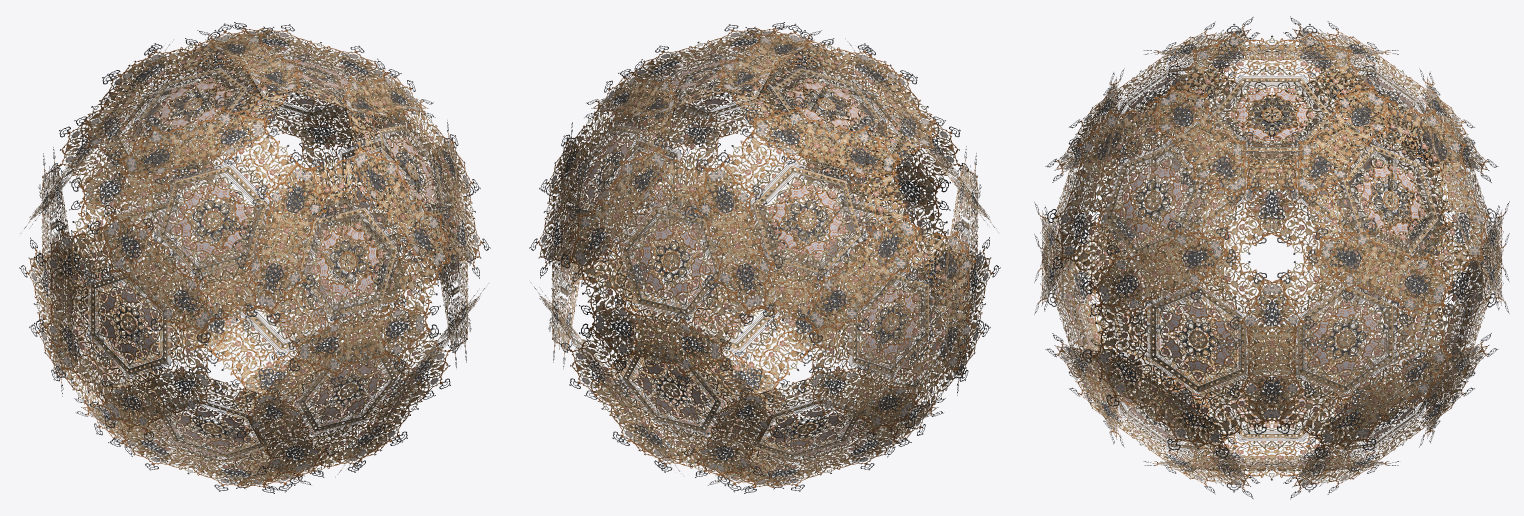
File: SmallIcosicosidodecahedron3.gltf
The picture shows the model from 3 angles, left to right: view 1: azimuth 30°, elevation 25°; view 2: azimuth 150°, elevation 25°; view 3: azimuth 270°, elevation 25°; orthographic projection. The views are drawn at different scales.
Visible parts, largest first — view 1: SmallIcosicosidodecahedron; view 2: SmallIcosicosidodecahedron; view 3: SmallIcosicosidodecahedron.
Boxes of the visible parts, box(x1,y1,x2,y2) form: SmallIcosicosidodecahedron: box(19, 22, 490, 493); SmallIcosicosidodecahedron: box(529, 22, 1000, 493); SmallIcosicosidodecahedron: box(1034, 16, 1509, 499).
Bounding box in the file's own units: 3.24 × 3.24 × 3.24.
Materials: 1 (1 with a texture image).
